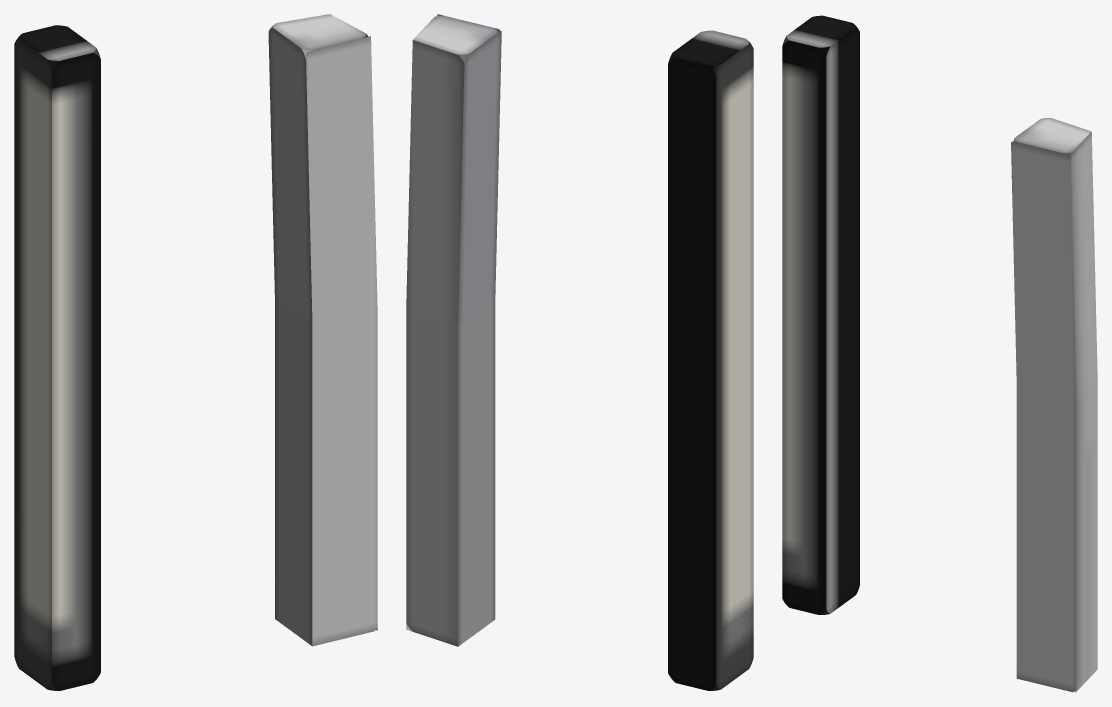
Rendered from bellows_right.obj.
3 renders of one model, left to right at view 1: azimuth 30°, elevation 25°; view 2: azimuth 150°, elevation 25°; view 3: azimuth 330°, elevation 25°, orthographic. The views are drawn at different scales.
Parts seen in each view (by area): view 1: 外风挡, 内风挡-侧; view 2: 内风挡-侧, 外风挡; view 3: 外风挡, 内风挡-侧.
Part boxes in pixels (x1,y1,x2,y2): 外风挡: [268, 14, 377, 646]; 内风挡-侧: [14, 25, 100, 690]; 内风挡-侧: [668, 30, 753, 690]; 外风挡: [406, 14, 501, 646]; 外风挡: [1011, 118, 1097, 692]; 内风挡-侧: [782, 15, 859, 614].
Size of the model in its own units: 1.25 by 2.38 by 0.25.
